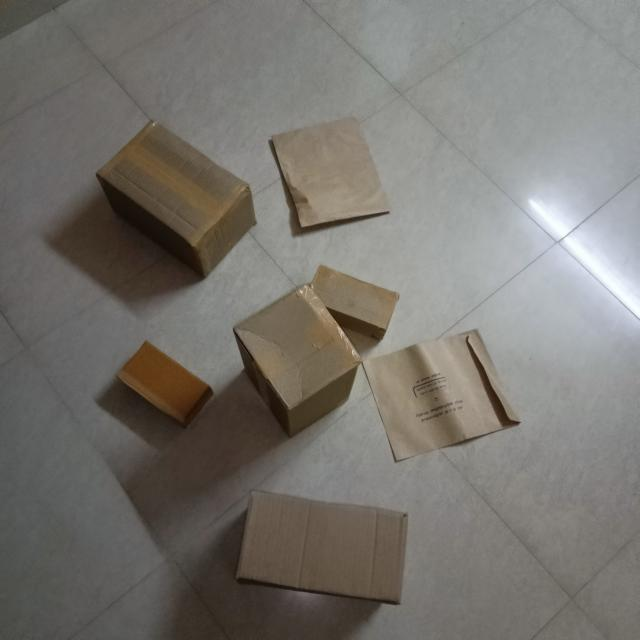box: (96, 125, 258, 280), (363, 332, 521, 465), (237, 493, 412, 607), (234, 286, 362, 438), (270, 120, 392, 239), (118, 345, 214, 428)
